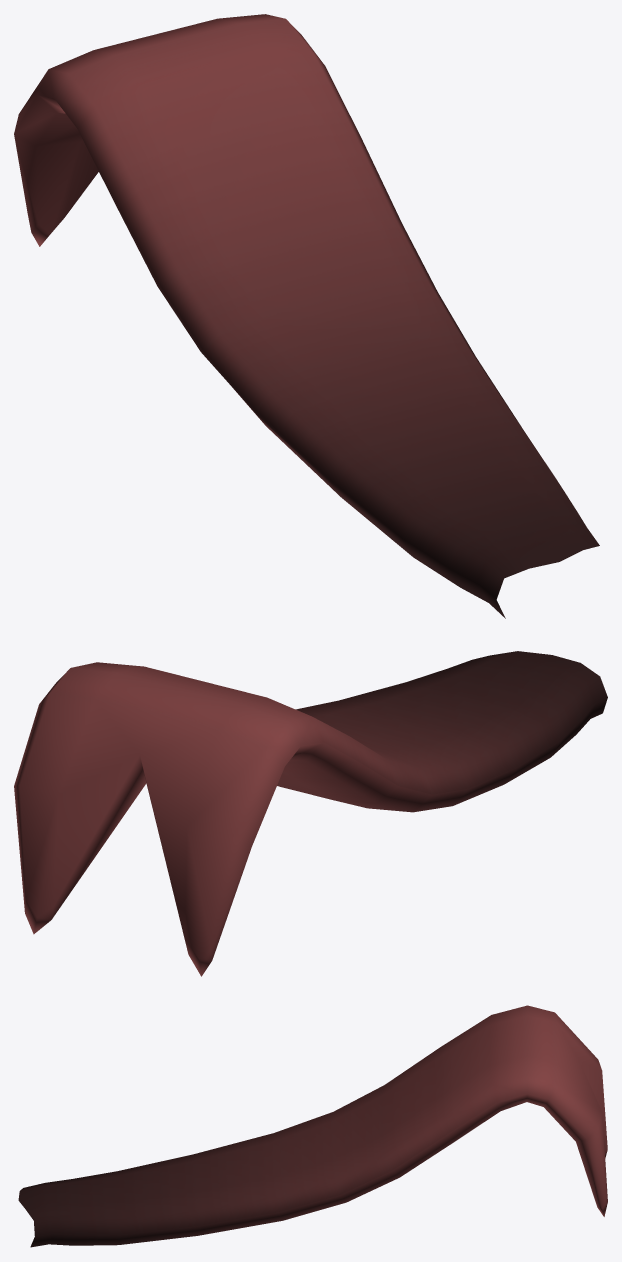
Rendered from forked.glb.
The picture shows the model from 3 angles, top to bottom: view 1: azimuth 30°, elevation 25°; view 2: azimuth 150°, elevation 25°; view 3: azimuth 270°, elevation 25°; orthographic projection. The views are drawn at different scales.
Visible parts, largest first — view 1: cs_forked3; view 2: cs_forked3; view 3: cs_forked3.
Boxes of the visible parts, left/top/right/bottom form: cs_forked3: left=14, top=14, right=599, bottom=618; cs_forked3: left=14, top=651, right=607, bottom=976; cs_forked3: left=18, top=1005, right=607, bottom=1247.
Size of the model in its own units: 0.0502 by 0.0573 by 0.1549.
Materials: 1 (1 with a texture image).
